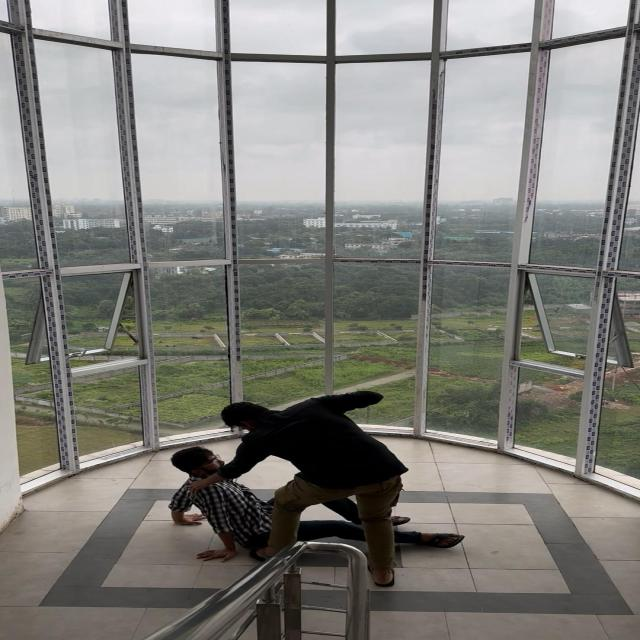fight: (114, 370, 477, 598)
